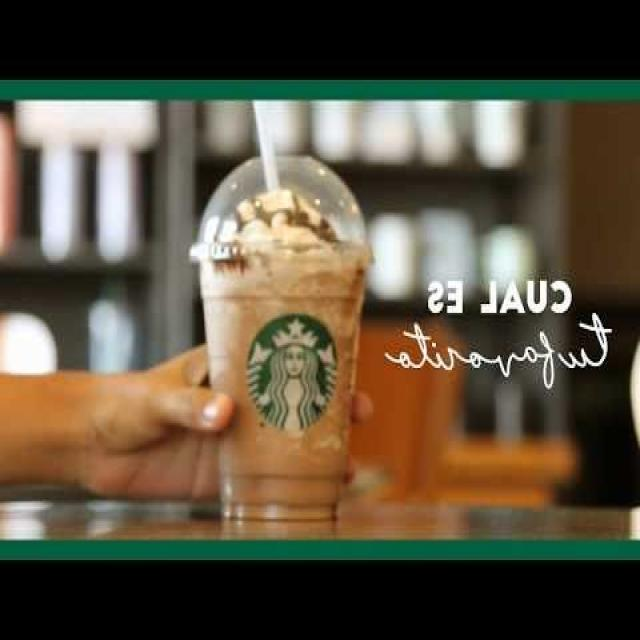starbucks: (240, 312, 341, 431)
